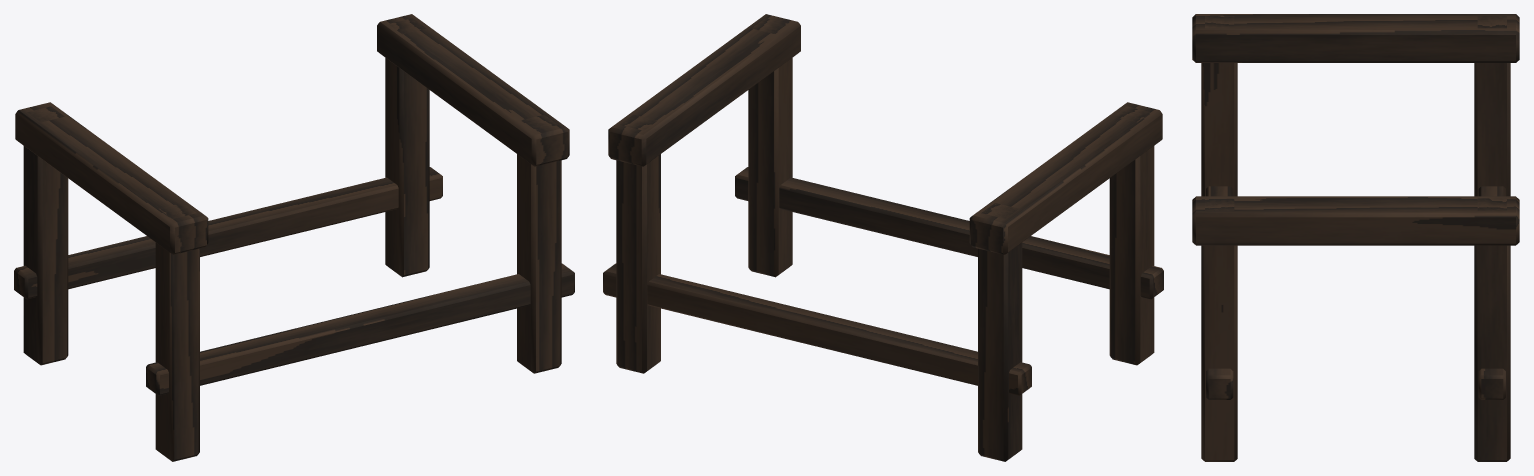
Rendered from SM_Bellows_Frame.glb.
3 renders of one model, left to right at view 1: azimuth 30°, elevation 25°; view 2: azimuth 150°, elevation 25°; view 3: azimuth 270°, elevation 25°, orthographic. The views are drawn at different scales.
Parts seen in each view (by area): view 1: SM_Bellows_Frame; view 2: SM_Bellows_Frame; view 3: SM_Bellows_Frame.
Boxes of the visible parts, <box> form: SM_Bellows_Frame: <box>14,14,574,461</box>; SM_Bellows_Frame: <box>603,14,1163,461</box>; SM_Bellows_Frame: <box>1192,14,1519,461</box>.
Size of the model in its own units: 1.1 by 0.61 by 0.72.
Materials: 1 (1 with a texture image).
